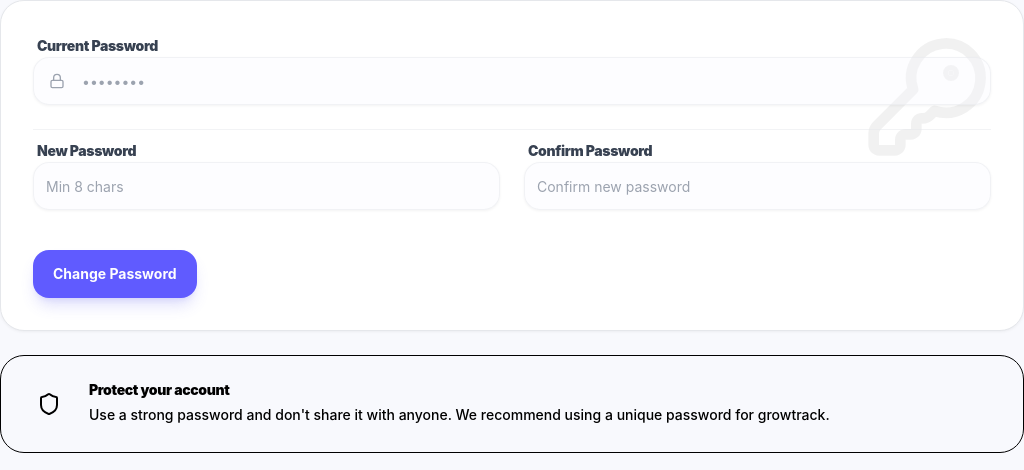
UpdatePasswordForm › appelle l API et affiche le succès avec des données valides
This screenshot has width=1024, height=470.
Type "old-pass" into the password field with placeholder "••••••••" at x=512, y=81, box [33,57,991,105]
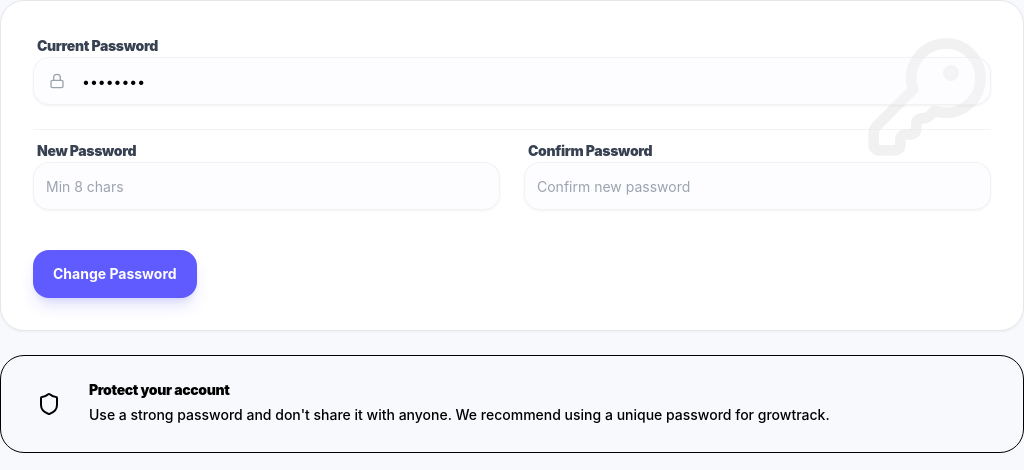
Type "new-pass-123" into the password field with placeholder "Min 8 chars" at x=266, y=186, box [33,162,500,210]
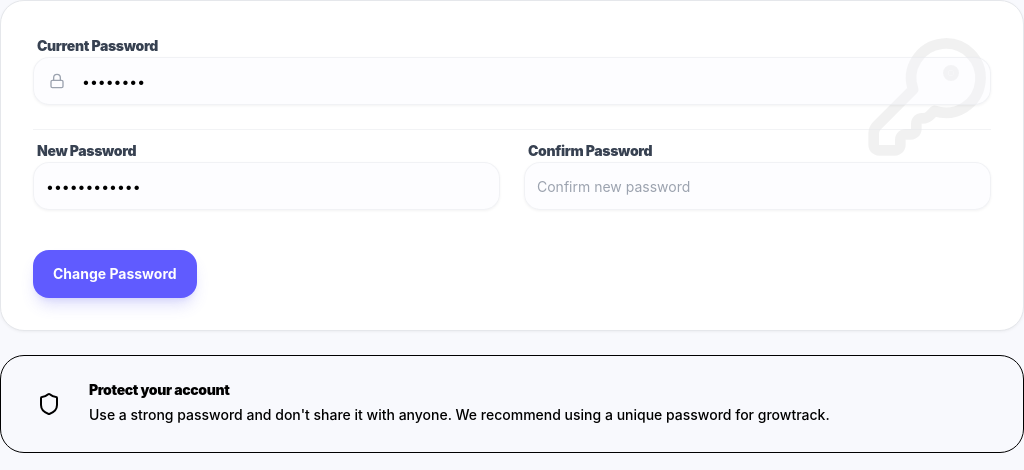
Type "new-pass-123" into the password field with placeholder "Confirm new password" at x=758, y=186, box [524,162,991,210]
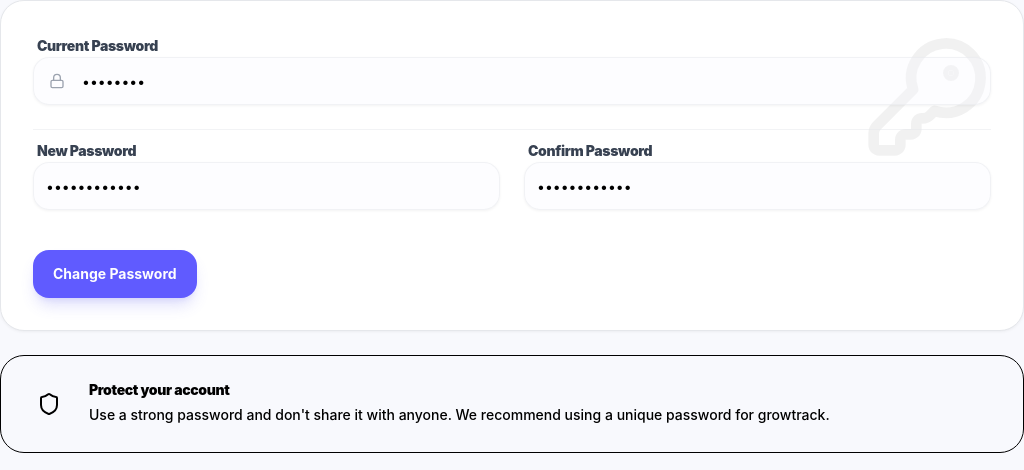
Click the button "Change Password" at x=115, y=274, box [33,250,197,298]
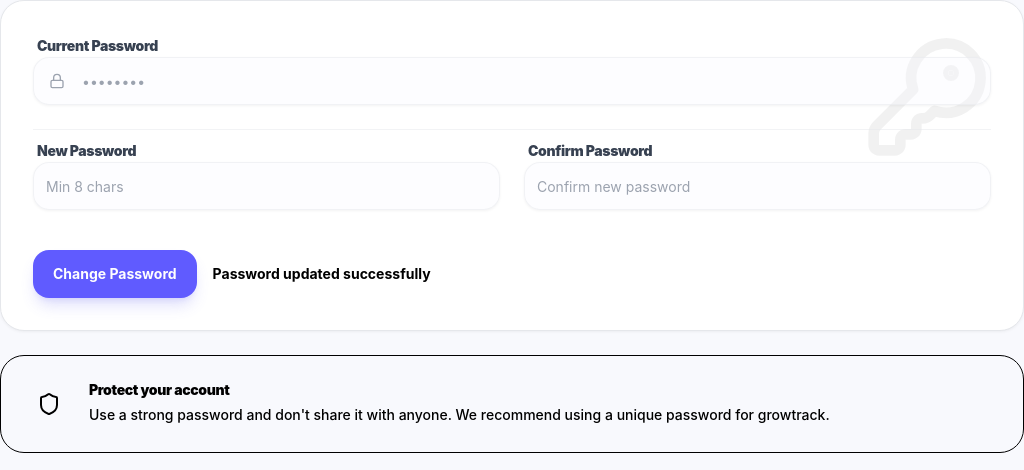
Check: the text "Password updated successfully" is shown, box [213,265,431,282]
Check: the password field with placeholder "••••••••" is empty, box [33,57,991,105]
